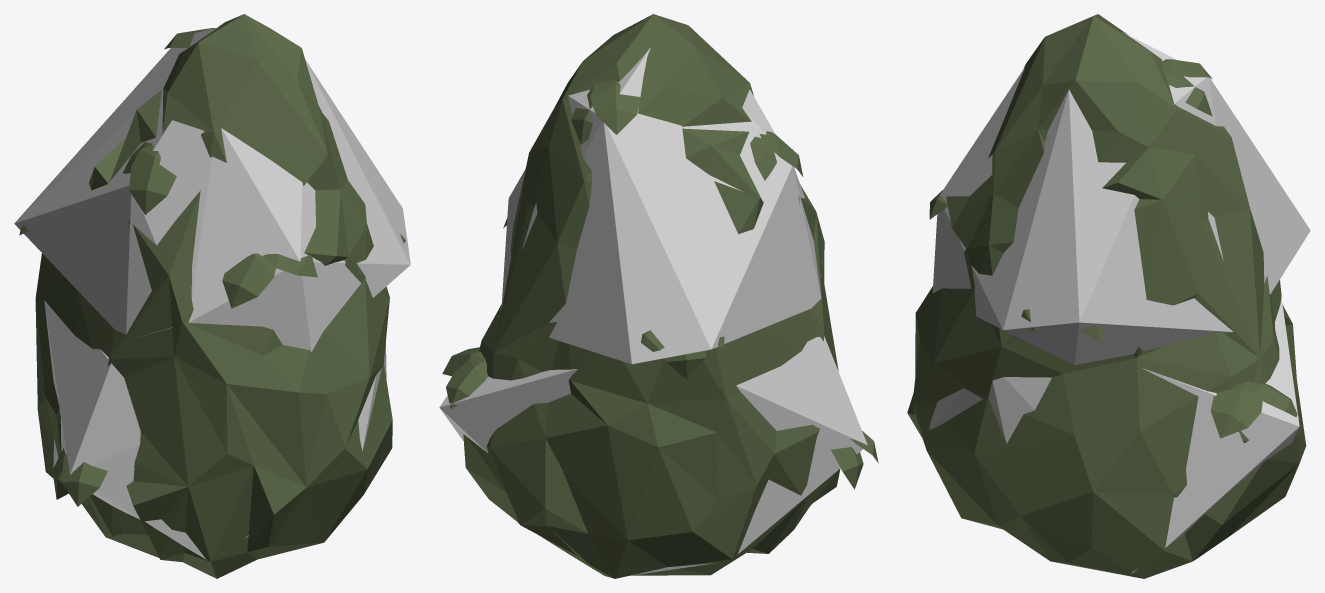
File: SM_Env_Hedge_Bush_01.fbx
3 views of the same model, side by side, from view 1: azimuth 30°, elevation 25°; view 2: azimuth 150°, elevation 25°; view 3: azimuth 270°, elevation 25° (orthographic). The views are drawn at different scales.
Visible parts, largest first — view 1: SM_Env_Hedge_Bush_01, SM_Env_Hedge_Bush_01_ConvexHulls; view 2: SM_Env_Hedge_Bush_01, SM_Env_Hedge_Bush_01_ConvexHulls; view 3: SM_Env_Hedge_Bush_01, SM_Env_Hedge_Bush_01_ConvexHulls.
Part boxes in pixels (left/top/right/bottom): SM_Env_Hedge_Bush_01: left=19, top=14, right=405, bottom=578; SM_Env_Hedge_Bush_01_ConvexHulls: left=14, top=27, right=410, bottom=559; SM_Env_Hedge_Bush_01: left=442, top=14, right=878, bottom=578; SM_Env_Hedge_Bush_01_ConvexHulls: left=439, top=47, right=867, bottom=575; SM_Env_Hedge_Bush_01: left=907, top=14, right=1306, bottom=578; SM_Env_Hedge_Bush_01_ConvexHulls: left=929, top=32, right=1310, bottom=573.
Bounding box in the file's own units: 119 × 116 × 169.
Materials: 2 (1 with a texture image).
